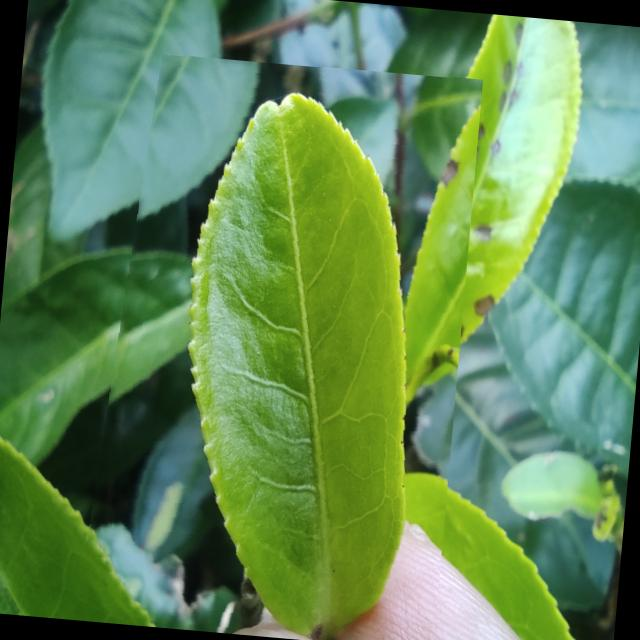Category C(4-7 days): (73, 48, 482, 640)
